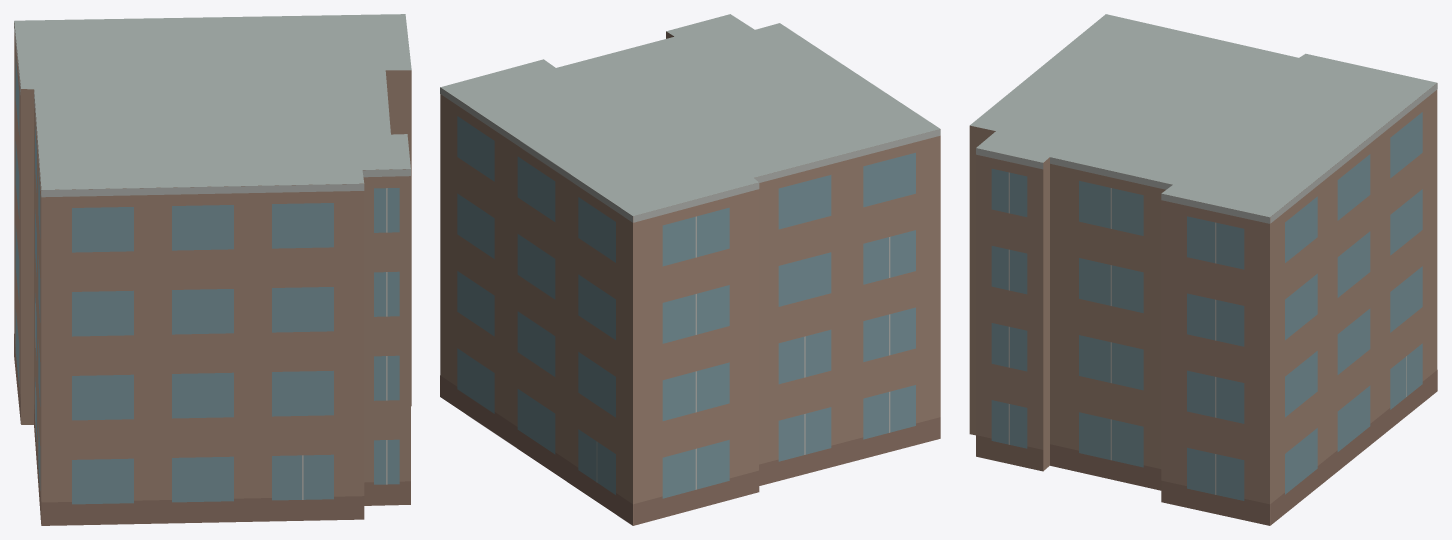
The model's file is survey-upis-32994160.glb.
3 views of the same model, side by side, from view 1: azimuth 30°, elevation 25°; view 2: azimuth 150°, elevation 25°; view 3: azimuth 270°, elevation 25° (orthographic). The views are drawn at different scales.
Parts seen in each view (by area): view 1: survey-upis-32994160.tmp; view 2: survey-upis-32994160.tmp; view 3: survey-upis-32994160.tmp.
Boxes of the visible parts, box(x1,y1,x2,y2) form: survey-upis-32994160.tmp: box(14, 14, 411, 525); survey-upis-32994160.tmp: box(440, 14, 940, 525); survey-upis-32994160.tmp: box(969, 14, 1437, 525).
Bounding box in the file's own units: 16.12 × 11.4 × 15.67.
